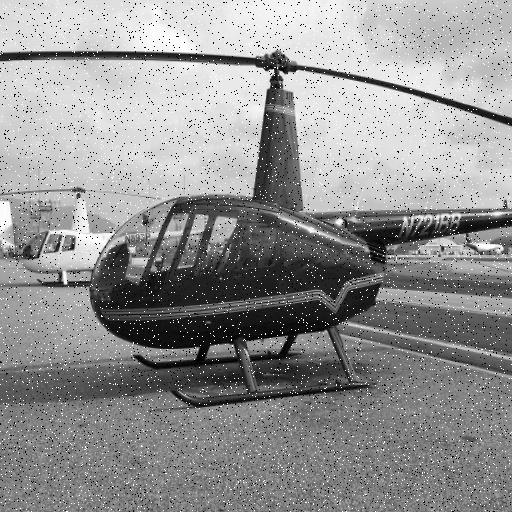helicopter: (1, 35, 512, 419)
